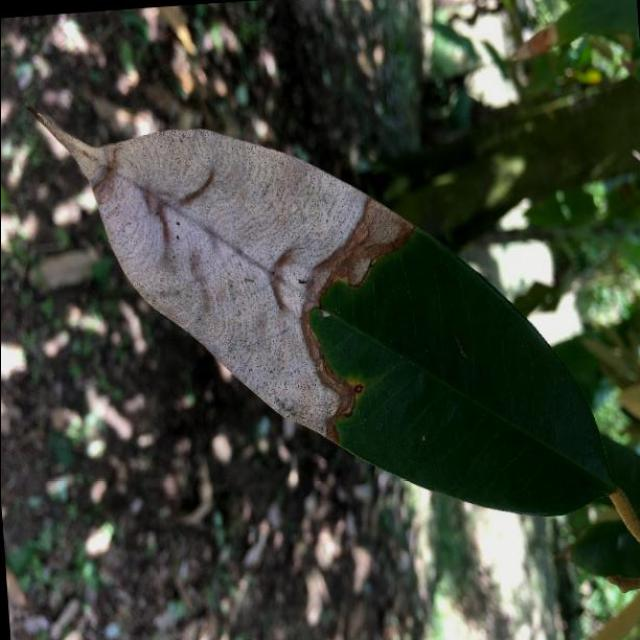Leaf Blight: (46, 87, 624, 561)
